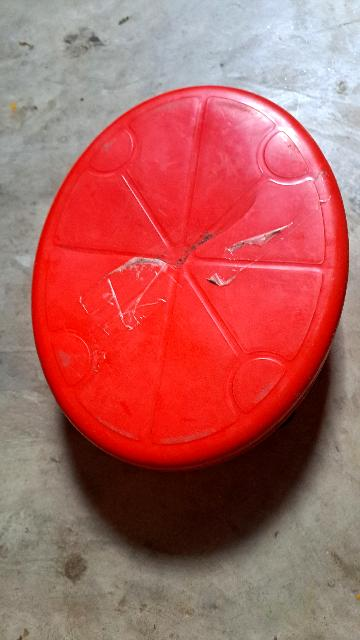hardplastic: (30, 77, 355, 479)
